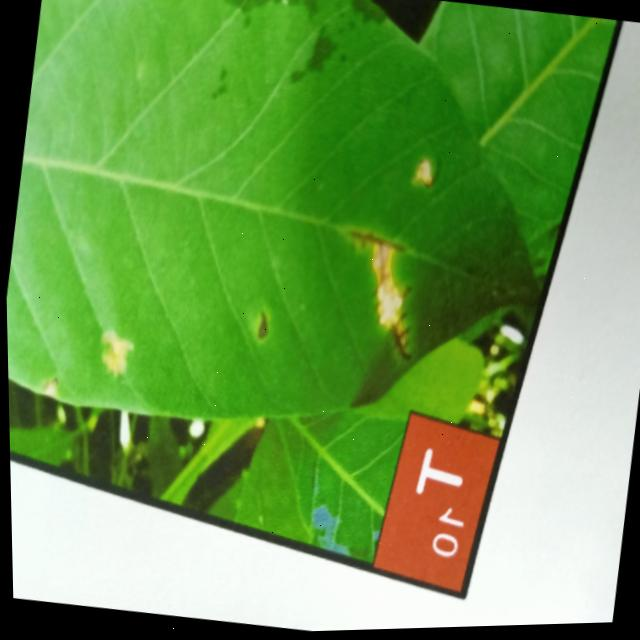Corynespora: (347, 231, 405, 261), (384, 313, 416, 367)
Leaf-Blight: (361, 247, 408, 330)
